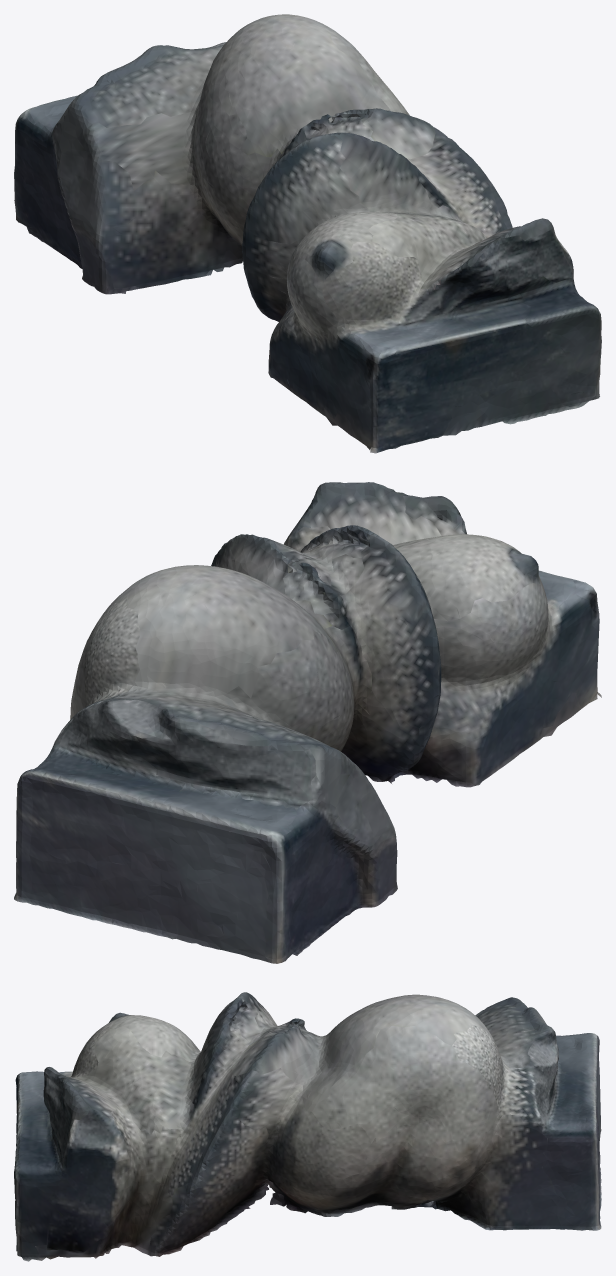
File: schema_model_4.glb
3 renders of one model, top to bottom at view 1: azimuth 30°, elevation 25°; view 2: azimuth 150°, elevation 25°; view 3: azimuth 270°, elevation 25°, orthographic. The views are drawn at different scales.
Visible parts, largest first — view 1: textured; view 2: textured; view 3: textured.
Part boxes in pixels (<box>): textured: <box>14,14,601,453</box>; textured: <box>14,482,601,963</box>; textured: <box>14,992,601,1261</box>.
Bounding box in the file's own units: 0.3012 × 0.2332 × 0.5773.
Materials: 1 (1 with a texture image).
